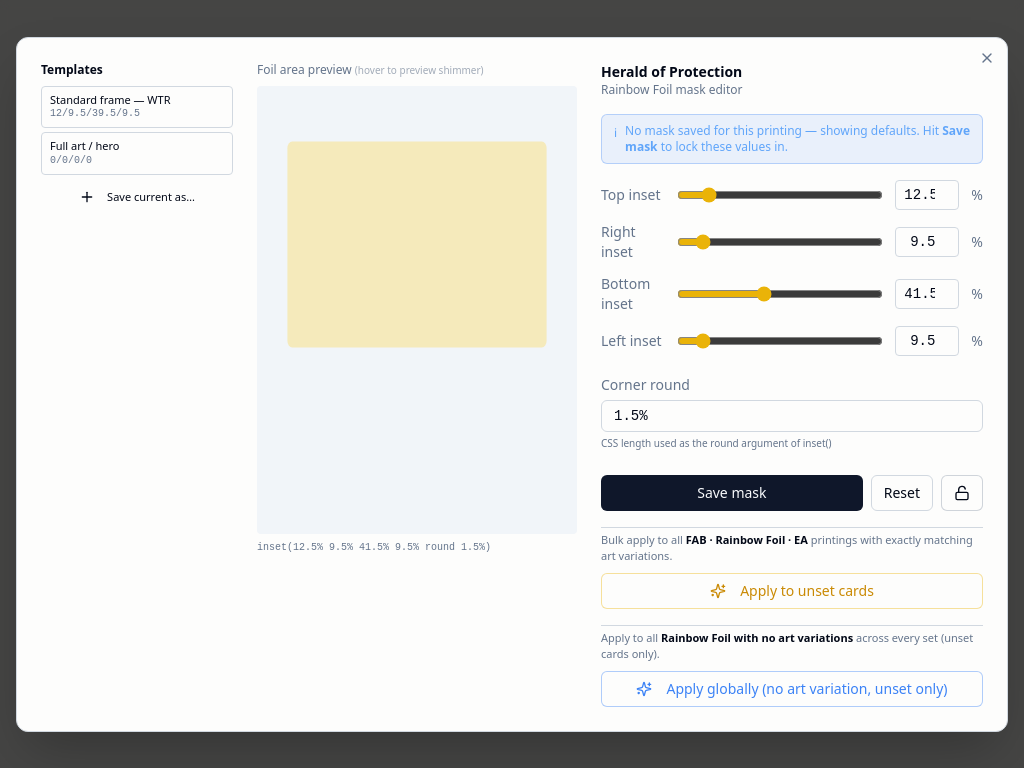
Test: FoilMaskEditor — template rail › loads a template’s values into the inset controls
Click the button "Full art / hero 0/0/0/0". click: (137,154)
box: [41,132,233,175]
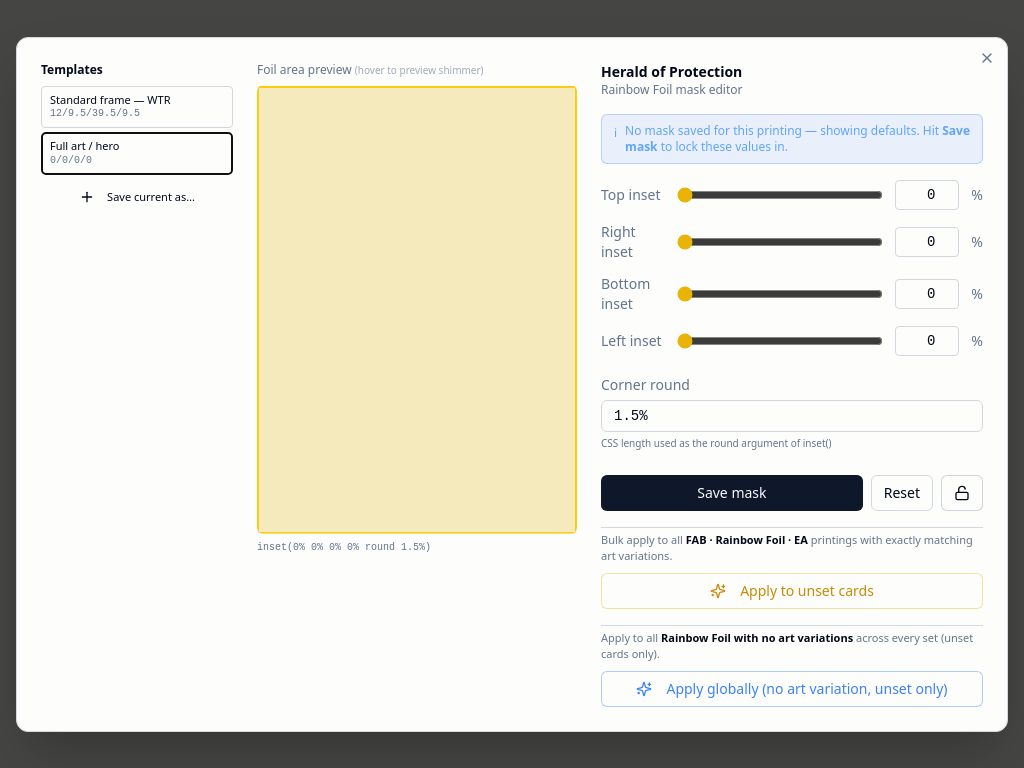
Expected: the number field in the row of "Top inset" holds "0", [895,180,959,210]
Expected: the number field in the row of "Bottom inset" holds "0", [895,278,959,308]
